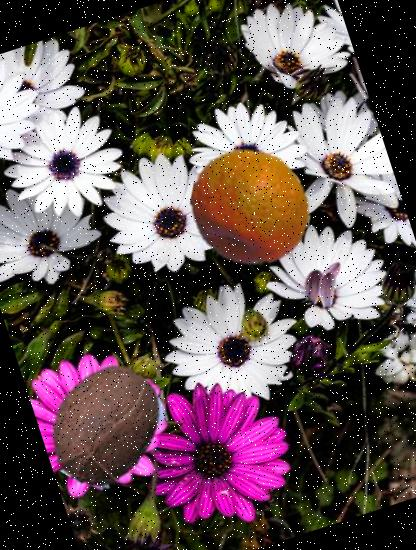Cocos: (29, 347, 188, 506)
Mandarine: (174, 131, 326, 283)
